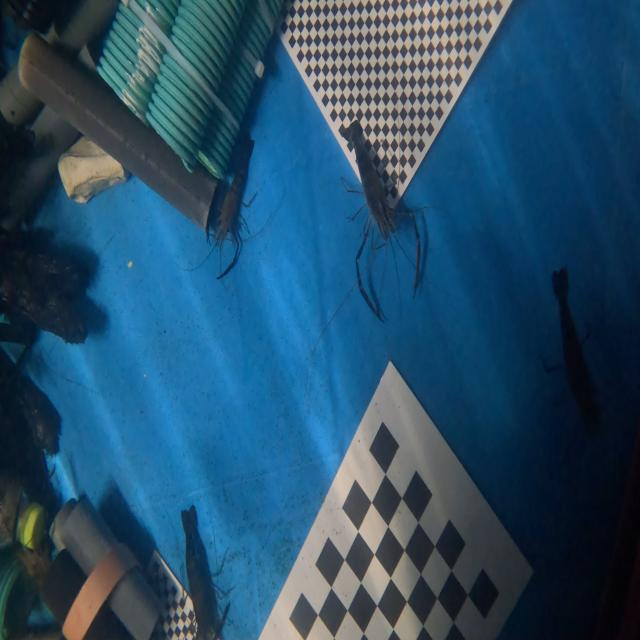prawn: (552, 268, 599, 430), (344, 120, 394, 236), (181, 508, 220, 639), (208, 136, 252, 240)
